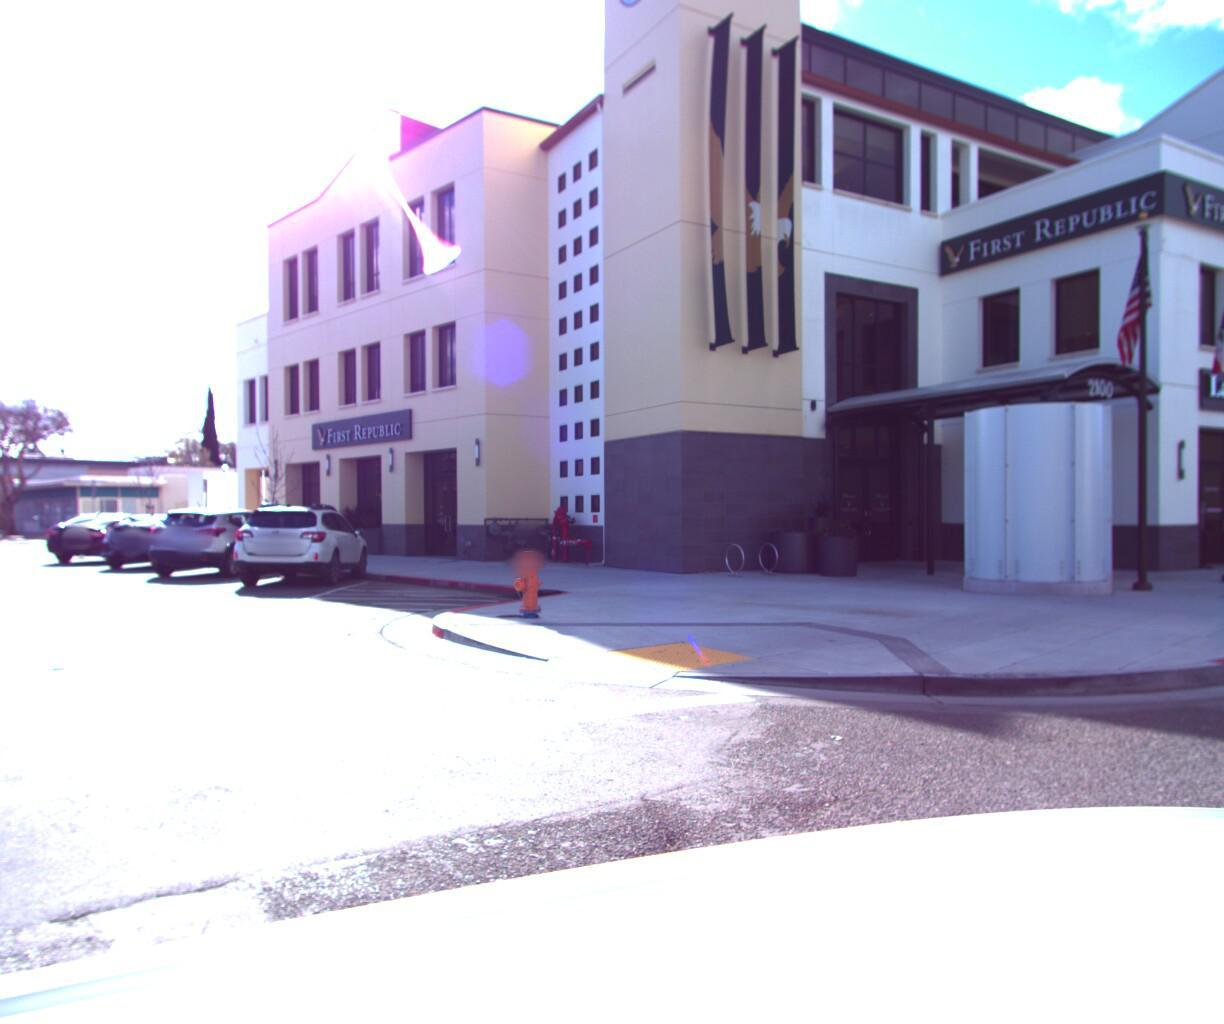car: (210, 499, 378, 593), (127, 509, 309, 580), (87, 511, 231, 574), (32, 511, 176, 567)
